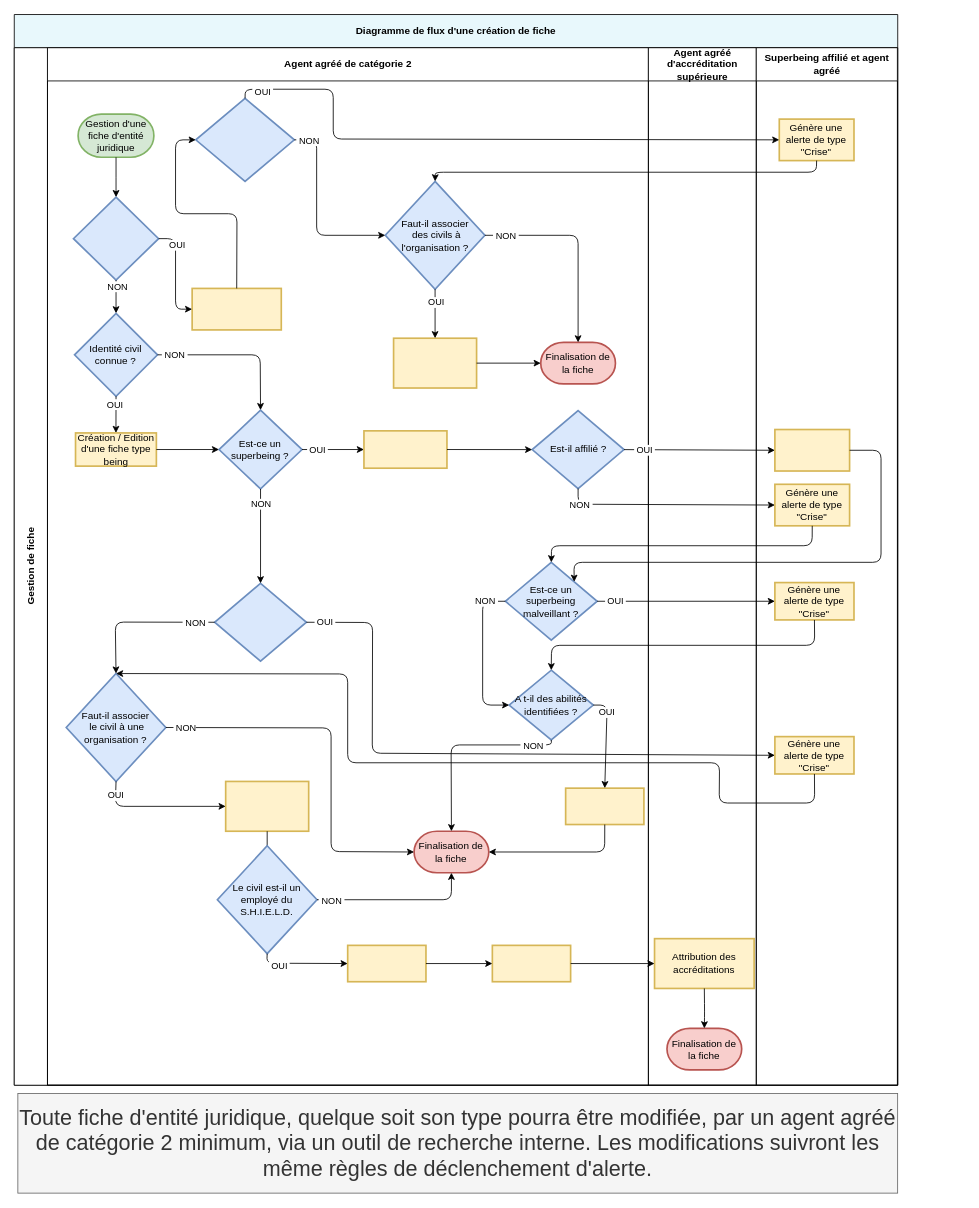
The diagram is 979 pixels wide and 1208 high, and some of its shapes have lost their labels. Here are the shapes that lost their labels. From the top down, the centre of each, then its label:
point (245, 139): Est-ce une organisation malveillante ?
point (115, 238): Est-ce une organisation ?
point (236, 308): Création / Edition d'une fiche type organisation
point (434, 362): Association des civils à l'organisation
point (405, 449): Création / Edition d'une fiche de type superbeing
point (812, 449): Génère une alerte
point (260, 622): Est-ce un being malveillant ?
point (266, 806): Association du civil à l'organisation
point (604, 806): Saisie des abilités
point (386, 963): Saisie des données de l'employée
point (531, 963): Attribution des identifiants de connexion
